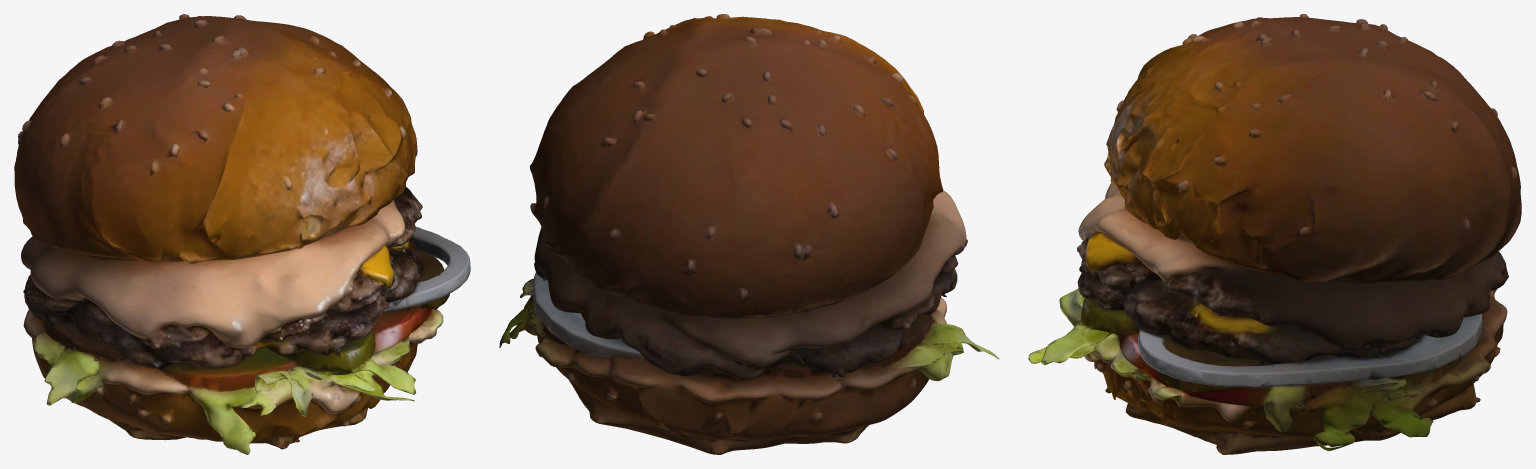
Rendered from hamburger-simplificado-tamanho-real-02.glb.
3 views of the same model, side by side, from view 1: azimuth 30°, elevation 25°; view 2: azimuth 150°, elevation 25°; view 3: azimuth 270°, elevation 25° (orthographic). The views are drawn at different scales.
Parts seen in each view (by area): view 1: tripo_node_fdbde4fa-7a82-46e0-aa46-09a35e8c473f; view 2: tripo_node_fdbde4fa-7a82-46e0-aa46-09a35e8c473f; view 3: tripo_node_fdbde4fa-7a82-46e0-aa46-09a35e8c473f.
Boxes of the visible parts, x1=… form: tripo_node_fdbde4fa-7a82-46e0-aa46-09a35e8c473f: x1=14, y1=14, x2=470, y2=454; tripo_node_fdbde4fa-7a82-46e0-aa46-09a35e8c473f: x1=499, y1=14, x2=998, y2=454; tripo_node_fdbde4fa-7a82-46e0-aa46-09a35e8c473f: x1=1028, y1=14, x2=1521, y2=454.
Bounding box in the file's own units: 0.1 × 0.08 × 0.1.
Materials: 1 (1 with a texture image).
